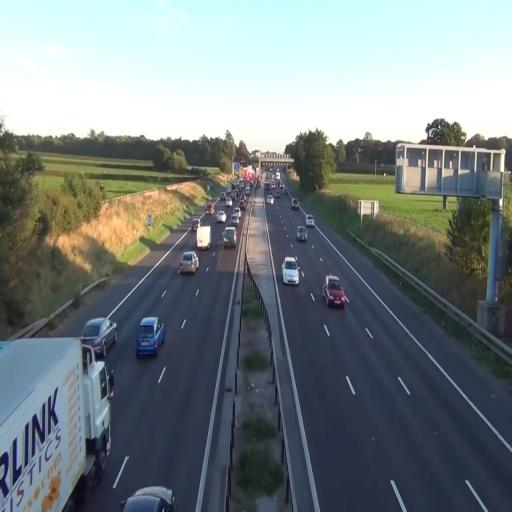vehicle: (81, 344, 114, 478), (80, 316, 117, 365), (122, 485, 176, 512), (135, 316, 165, 358), (323, 274, 347, 308), (178, 250, 200, 276), (282, 255, 300, 285), (222, 226, 236, 248), (297, 226, 307, 242)
